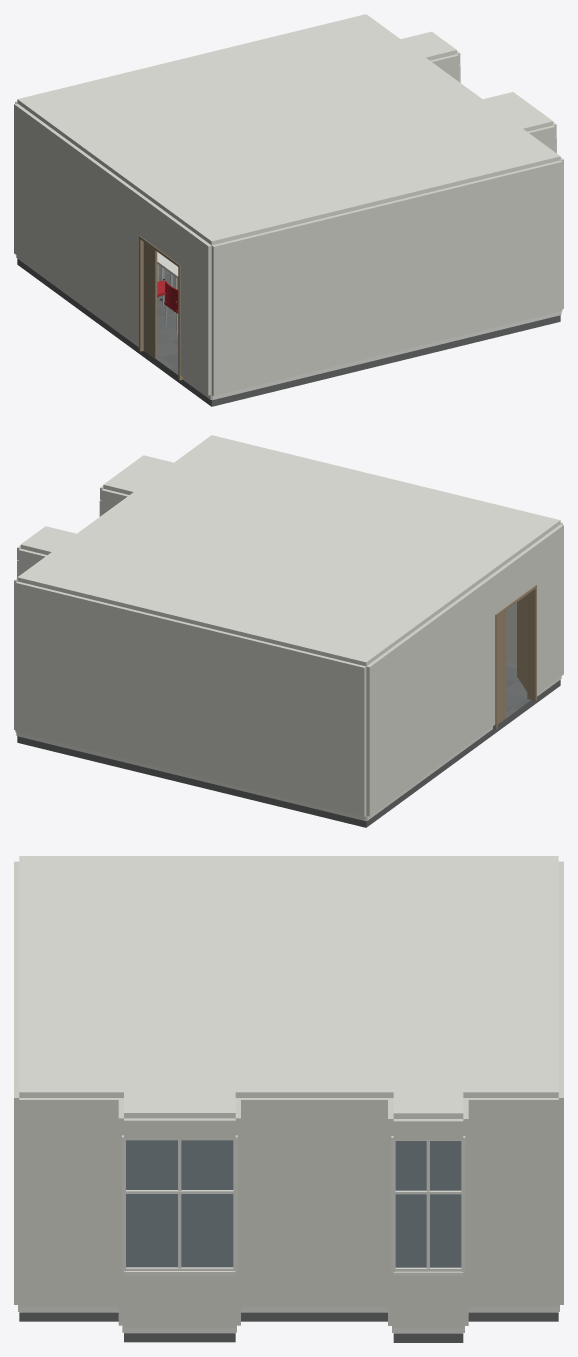
Rendered from ckk-110-interior-571a3423e64c.glb.
3 renders of one model, top to bottom at view 1: azimuth 30°, elevation 25°; view 2: azimuth 150°, elevation 25°; view 3: azimuth 270°, elevation 25°, orthographic. The views are drawn at different scales.
Visible parts, largest first — view 1: ckk-110; view 2: ckk-110; view 3: ckk-110.
Part boxes in pixels (bbox=[...]): ckk-110: bbox=[14, 14, 563, 406]; ckk-110: bbox=[14, 435, 563, 827]; ckk-110: bbox=[14, 856, 563, 1342].
Size of the model in its own units: 8.02 by 3.27 by 7.1.
